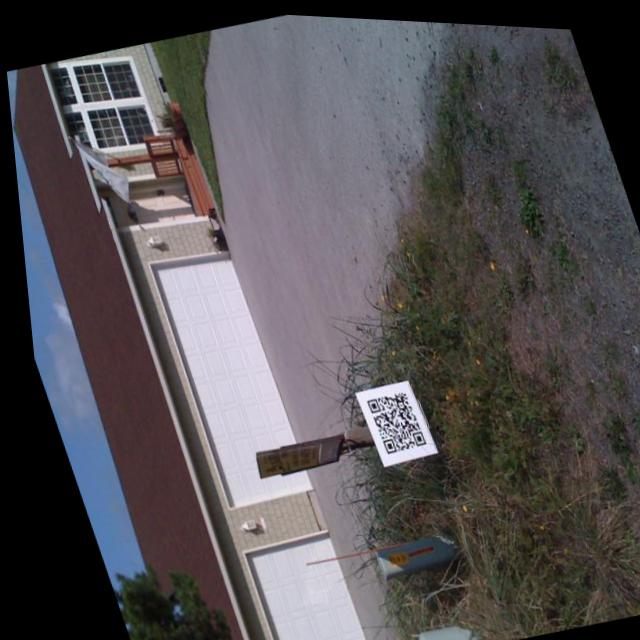qrcode: (358, 384, 419, 452)
